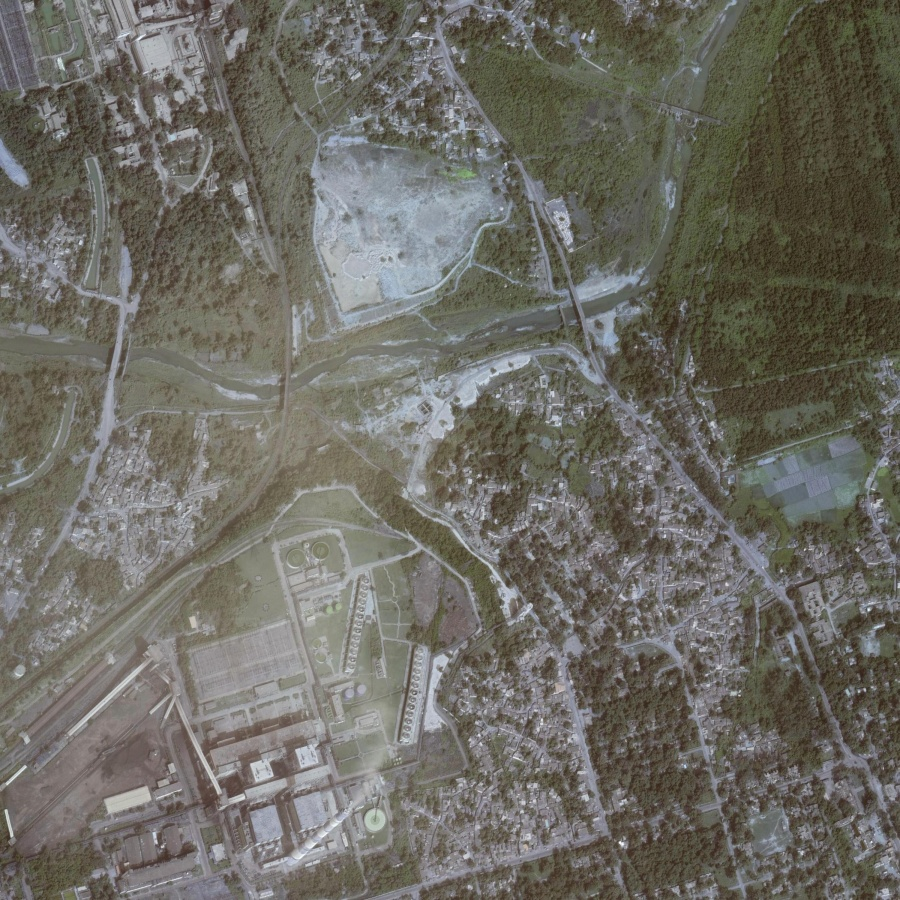PowerPlant: (1, 535, 443, 889)
